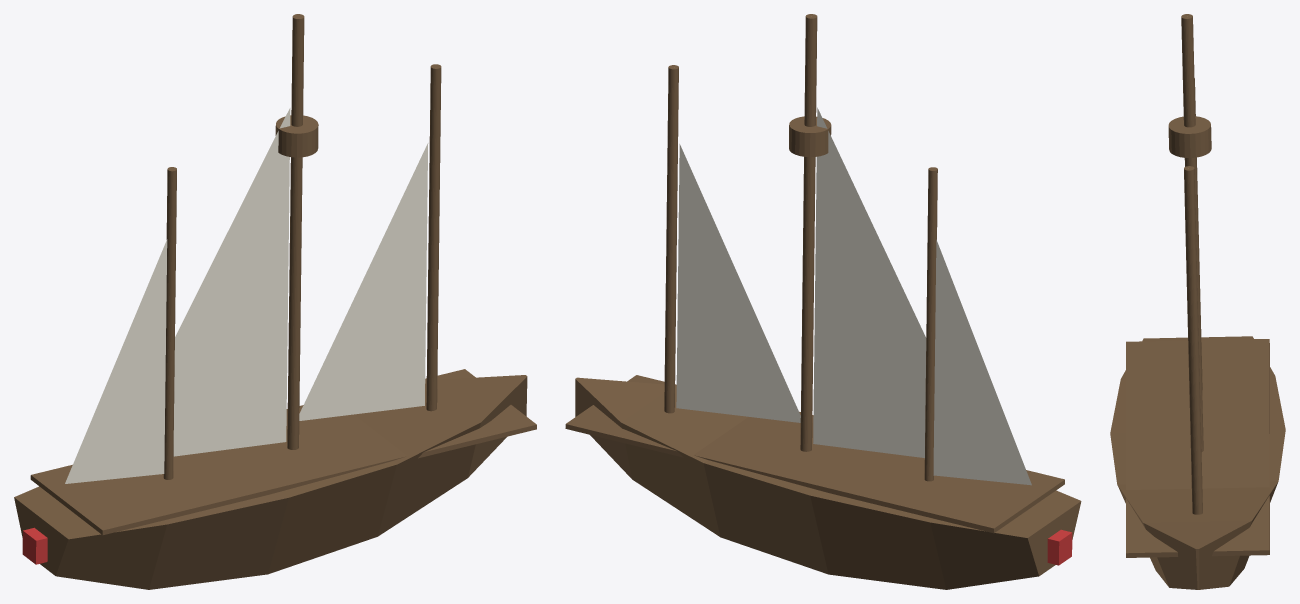
File: asset.glb
The picture shows the model from 3 angles, left to right: view 1: azimuth 30°, elevation 25°; view 2: azimuth 150°, elevation 25°; view 3: azimuth 270°, elevation 25°; orthographic projection.
Visible parts, largest first — view 1: hull, sail_main, deck, sail_fore, sail_mizzen, mast_main, mast_fore, mast_mizzen, crow_nest, figurehead; view 2: hull, sail_main, deck, sail_fore, sail_mizzen, mast_main, mast_fore, mast_mizzen, crow_nest, figurehead; view 3: deck, hull, mast_fore, mast_main, crow_nest, mast_mizzen.
Part boxes in pixels (x1=…): hull: x1=14, y1=375, x2=527, y2=589; sail_main: x1=129, y1=108, x2=290, y2=456; deck: x1=30, y1=369, x2=536, y2=534; sail_fore: x1=299, y1=143, x2=428, y2=420; sail_mizzen: x1=65, y1=239, x2=167, y2=483; mast_main: x1=287, y1=14, x2=304, y2=449; mast_fore: x1=426, y1=64, x2=441, y2=411; mast_mizzen: x1=163, y1=167, x2=176, y2=479; crow_nest: x1=275, y1=115, x2=318, y2=157; figurehead: x1=22, y1=527, x2=47, y2=564; hull: x1=575, y1=377, x2=1081, y2=589; sail_main: x1=813, y1=107, x2=963, y2=457; deck: x1=565, y1=375, x2=1064, y2=533; sail_fore: x1=676, y1=144, x2=800, y2=422; sail_mizzen: x1=933, y1=239, x2=1031, y2=485; mast_main: x1=800, y1=14, x2=817, y2=451; mast_fore: x1=664, y1=65, x2=678, y2=413; mast_mizzen: x1=924, y1=167, x2=937, y2=481; crow_nest: x1=789, y1=116, x2=831, y2=157; figurehead: x1=1047, y1=529, x2=1072, y2=565; deck: x1=1126, y1=339, x2=1269, y2=557; hull: x1=1110, y1=336, x2=1285, y2=589; mast_fore: x1=1184, y1=166, x2=1202, y2=514; mast_main: x1=1181, y1=14, x2=1203, y2=451; crow_nest: x1=1168, y1=116, x2=1211, y2=157; mast_mizzen: x1=1194, y1=78, x2=1202, y2=389.
Bounding box in the file's own units: 10.75 × 11.04 × 3.3.
